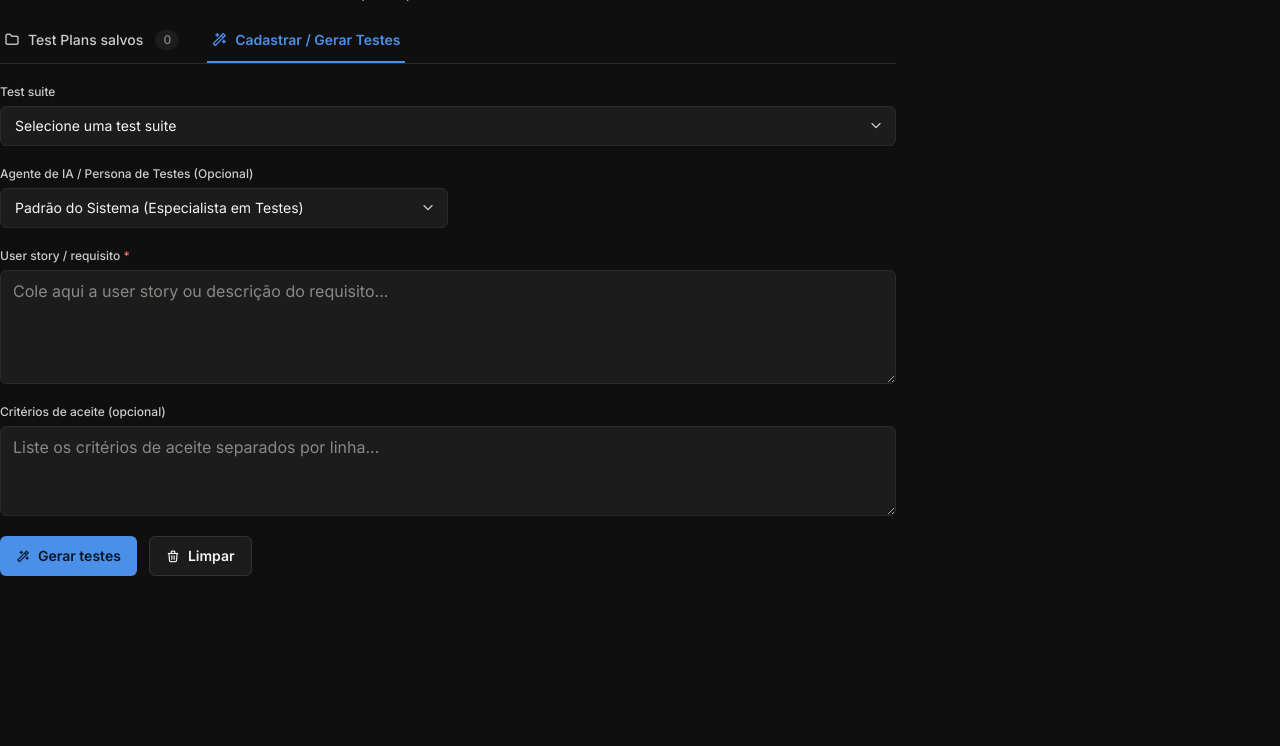
TestPlansView generated plan in the create tab › renames, saves and edits the cases of a freshly generated plan
Type "Pay" into the text box labelled "User story / requisito".
click(448, 327); type("Pay")  # box [0,270,896,384]
Click the button "Gerar testes".
click(68, 556)  # box [0,536,137,576]
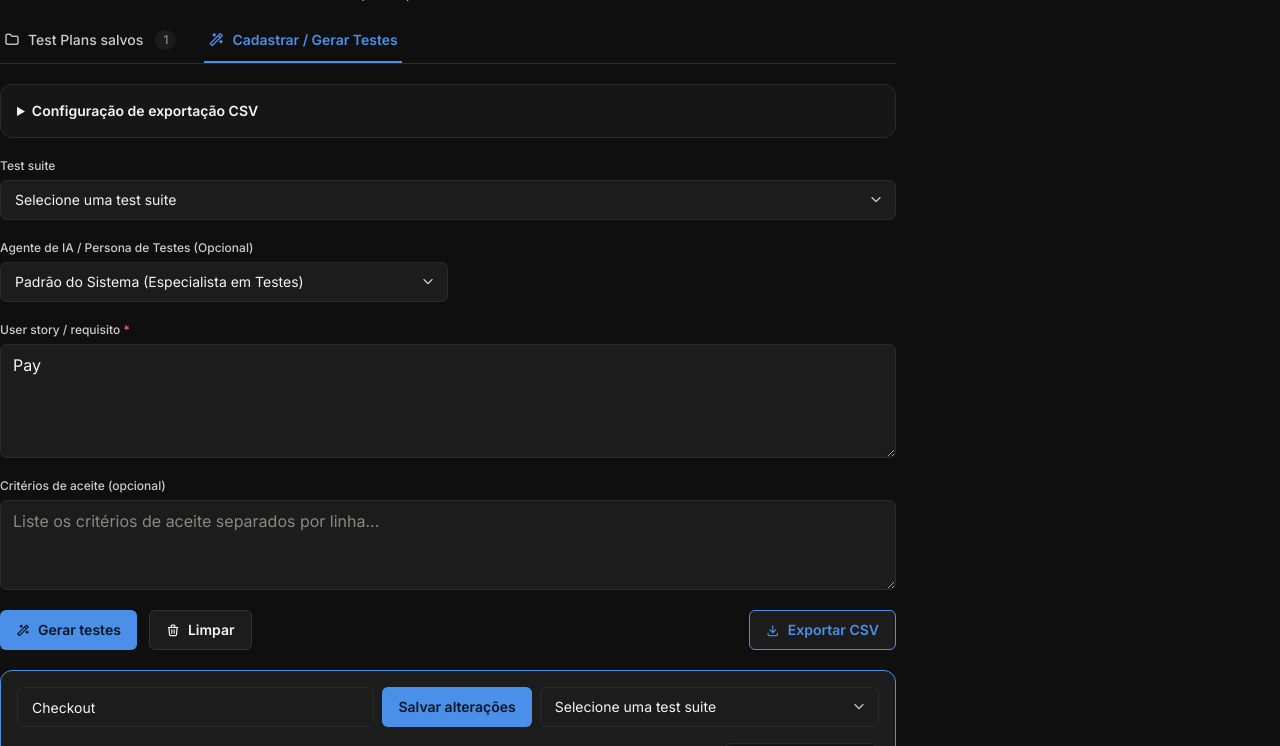
Replace the text in the field named "Título do Test Plan" with "Renamed" at (196, 707), box [17,687,374,727]
Click the button "Salvar alterações".
click(457, 707)  # box [382,687,532,727]
(page scrolled)
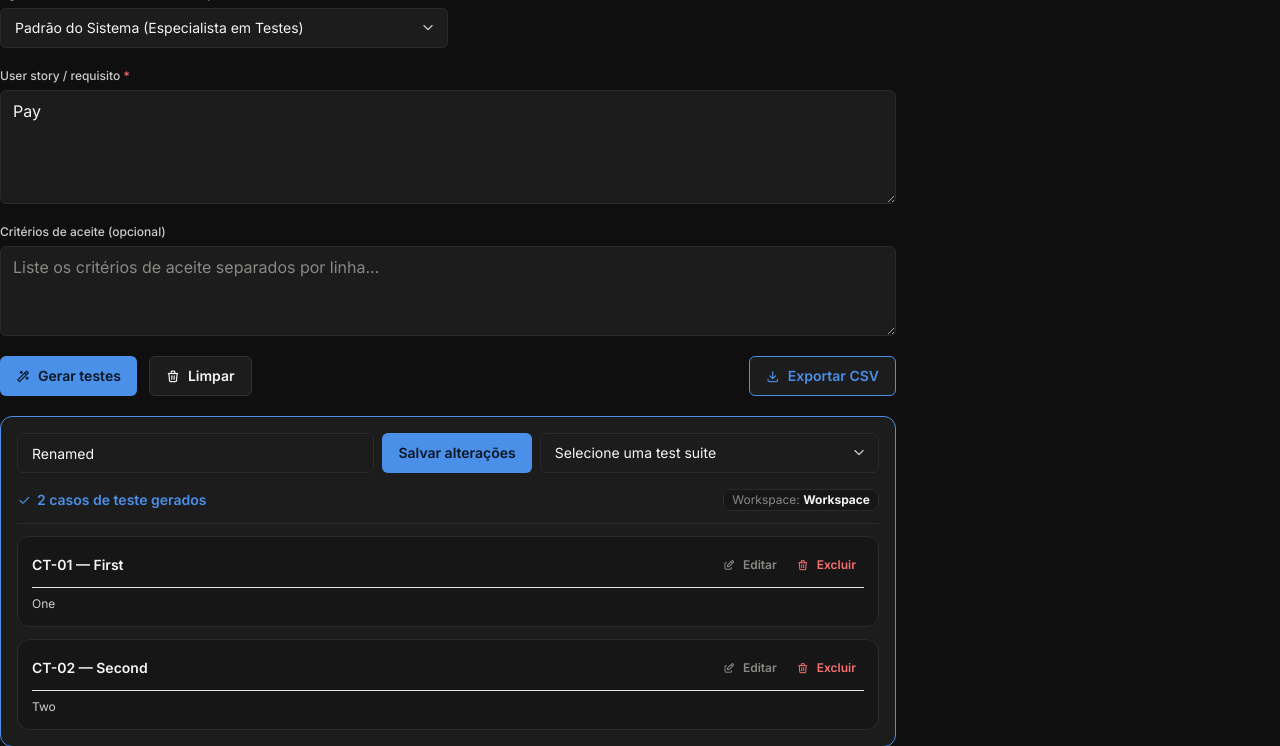
Click the button with test id "btn-edit-test-CT-01".
click(750, 565)  # box [715,551,785,579]
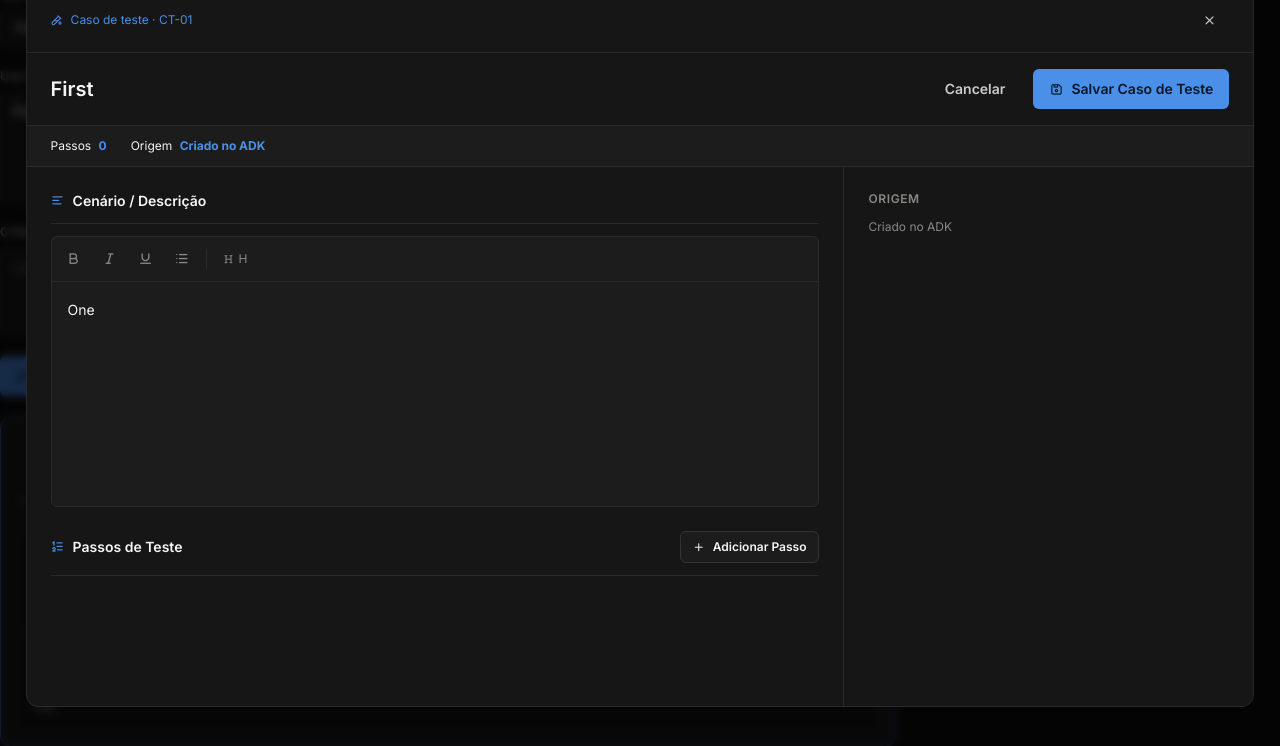
Replace the text in the field named "Título do caso de teste" with "First edited" at (484, 89), box [51,69,917,109]
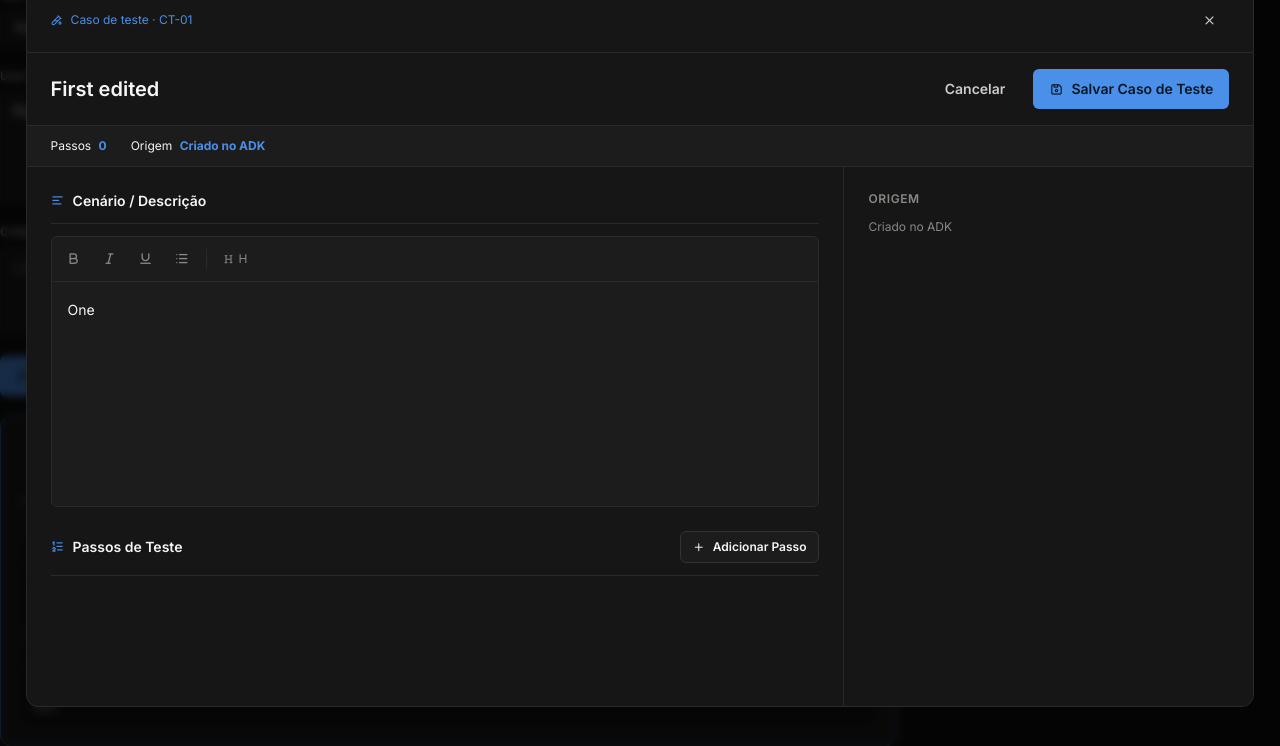
Click the button "Salvar Caso de Teste".
click(1131, 89)  # box [1033,69,1229,109]
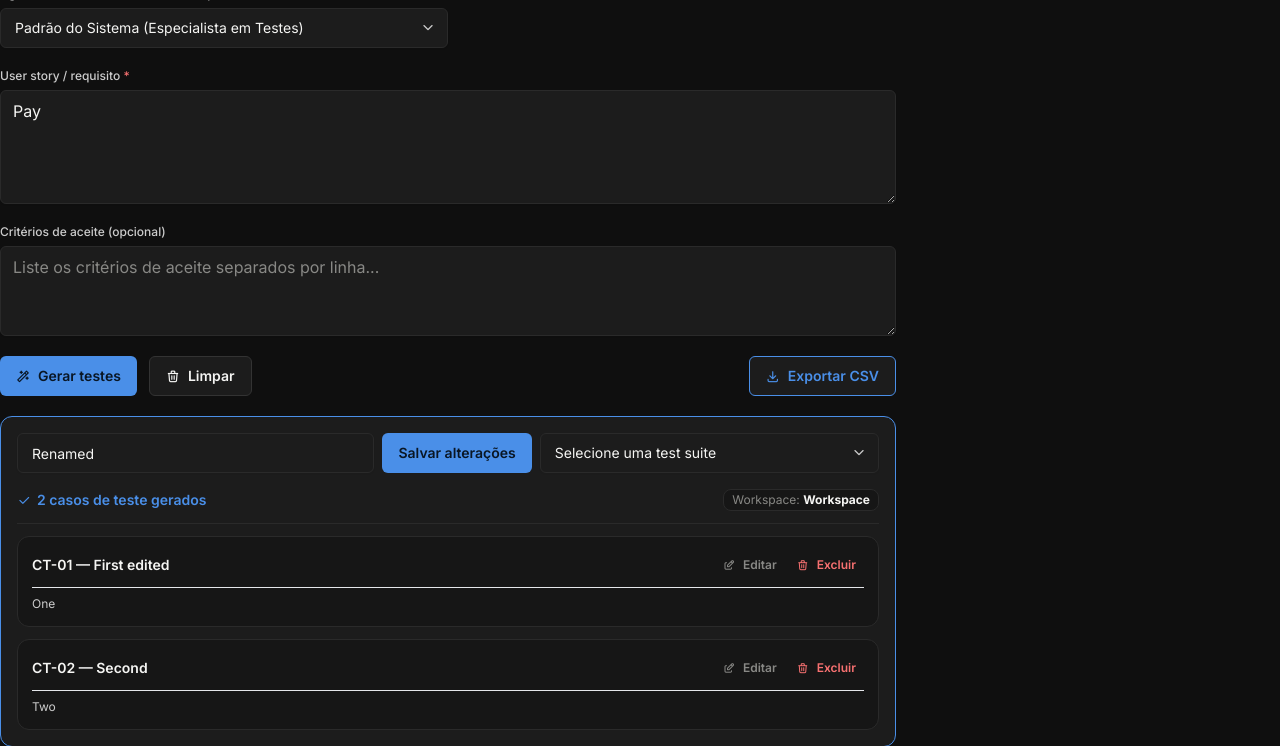
Expected: the text "CT-02 — Second" is shown, [32,658,148,678]
Expected: the text "CT-01 — First edited" is shown, [32,555,170,575]
Click the button with test id "btn-delete-test-CT-02".
click(826, 668)  # box [789,654,864,682]
(page scrolled)
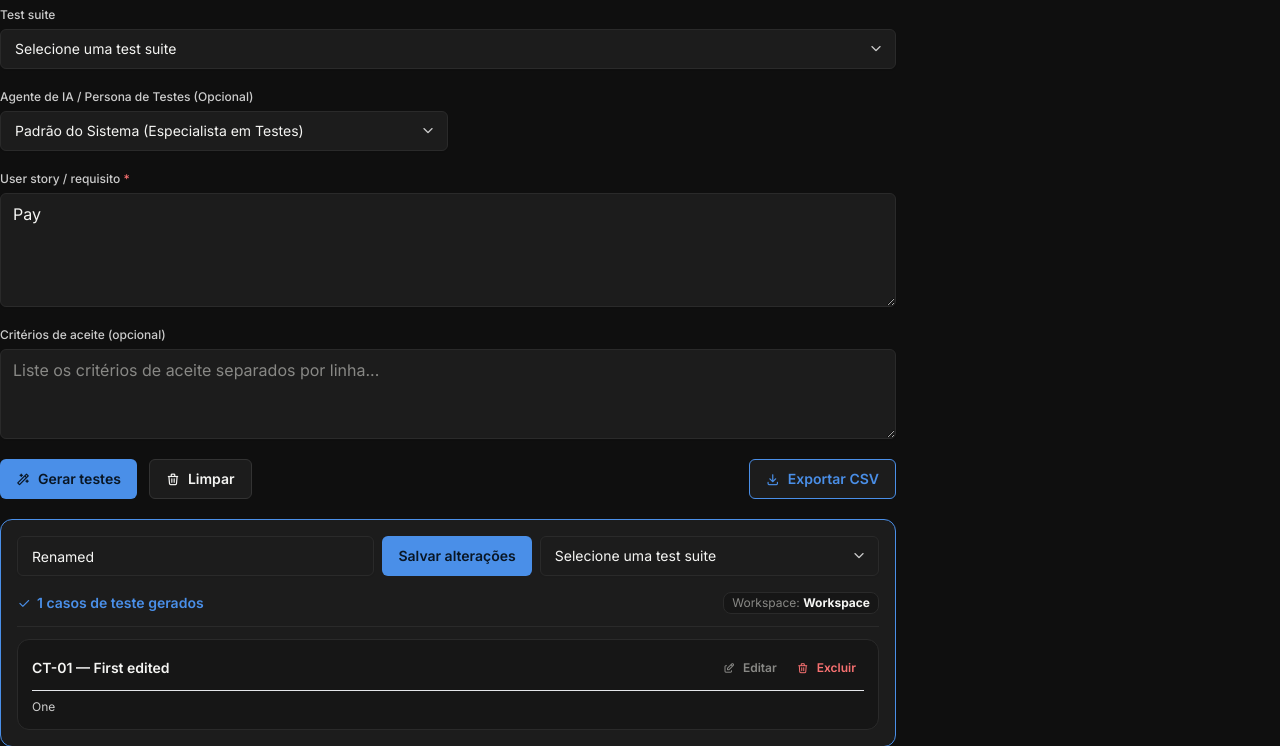
Expected: the text "CT-02 — Second" is gone
